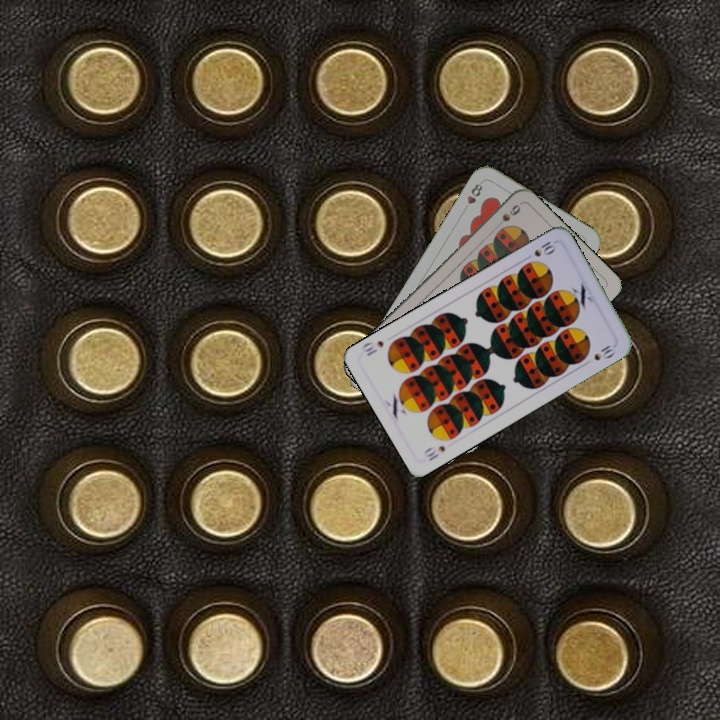H8: (459, 179, 485, 214)
S10: (520, 236, 558, 263), (419, 441, 448, 464)
S9: (491, 200, 523, 232)
